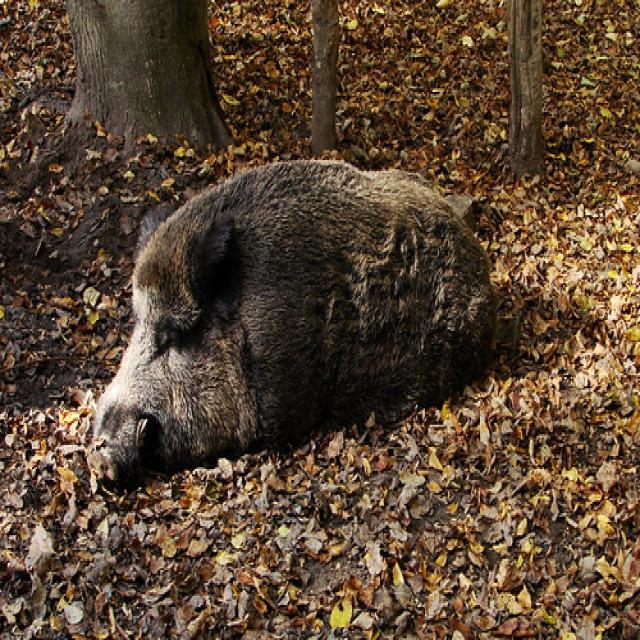boar: (80, 150, 515, 506)
